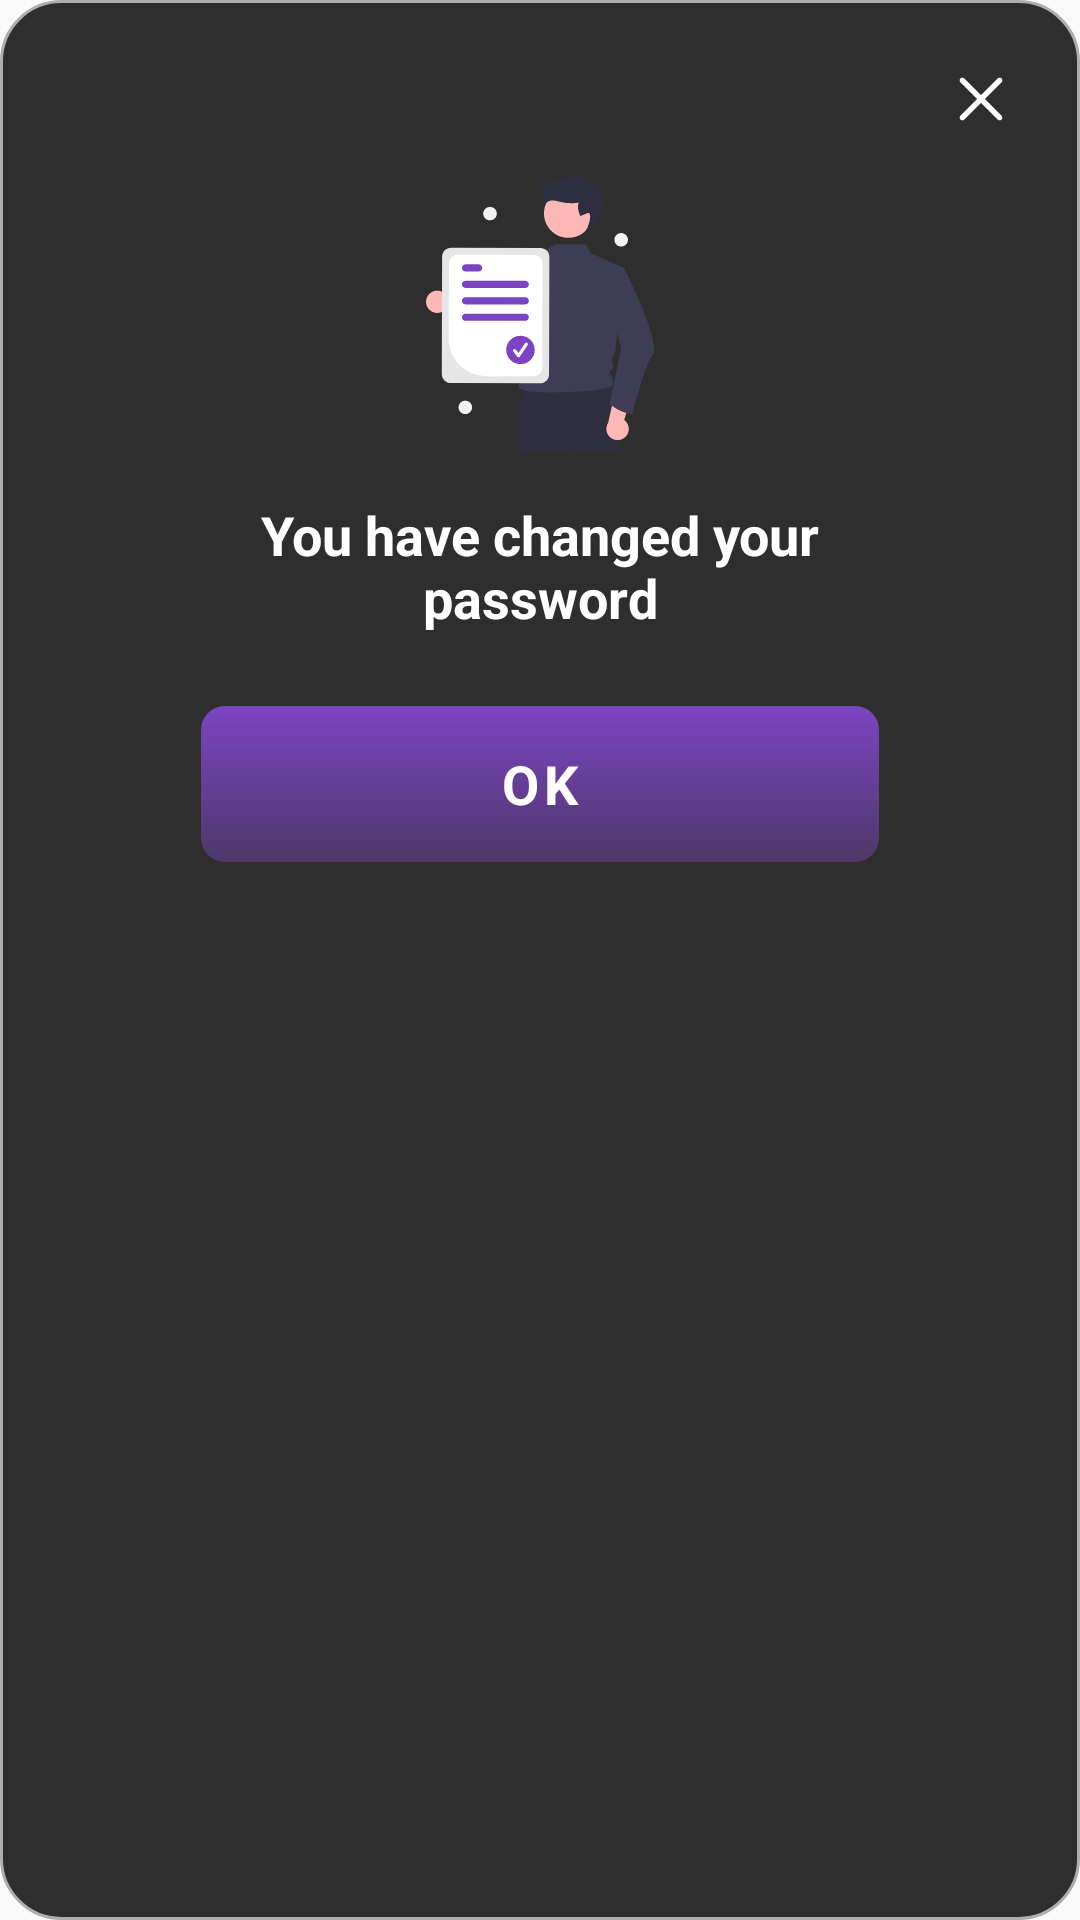

Icon bounding boxes for this 1080px x 1920px phone screenshot, format (x1, y1, x2, y2):
exit: (959, 77, 1003, 121)
undraw certificate re yadi: (426, 200, 654, 440)
